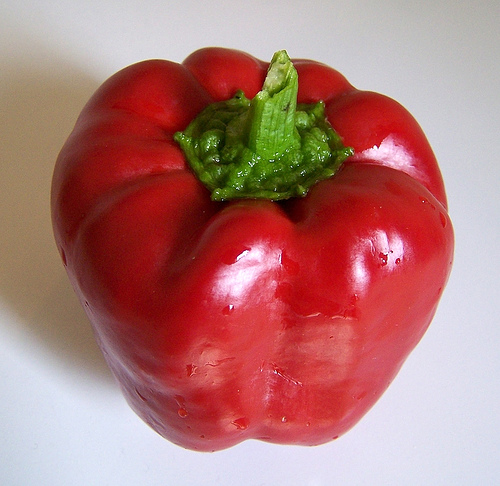capsicum: (47, 42, 454, 459)
